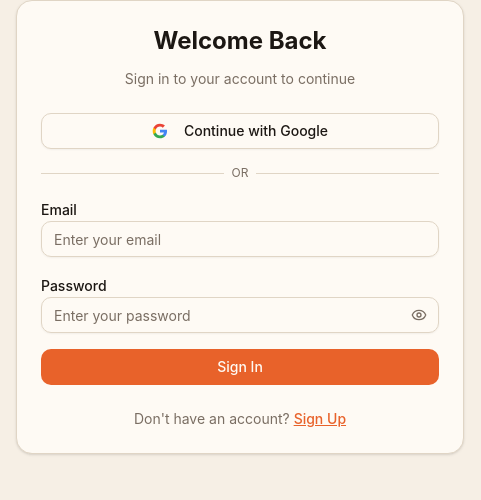
Test: AuthForm › Sign In Mode › shows validation errors for missing password
This screenshot has width=481, height=500.
Type "test@example.com" into the field labelled "Email" at [240, 239], box [41,221,439,257]
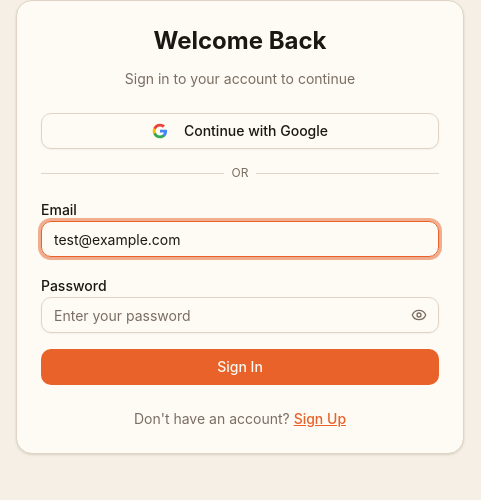
Click the button "Sign In" at [240, 367], box [41,349,439,385]
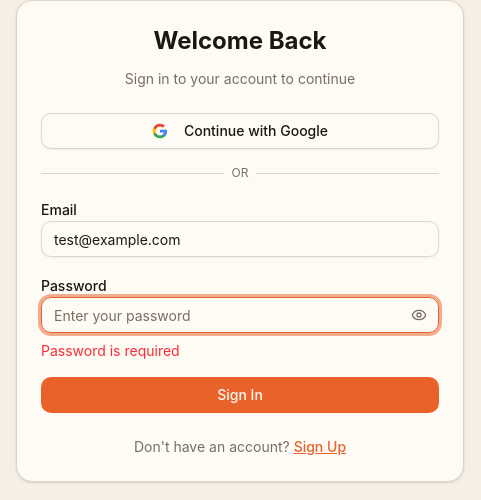
Now the text "Password is required" is shown, box [41,342,180,359]
